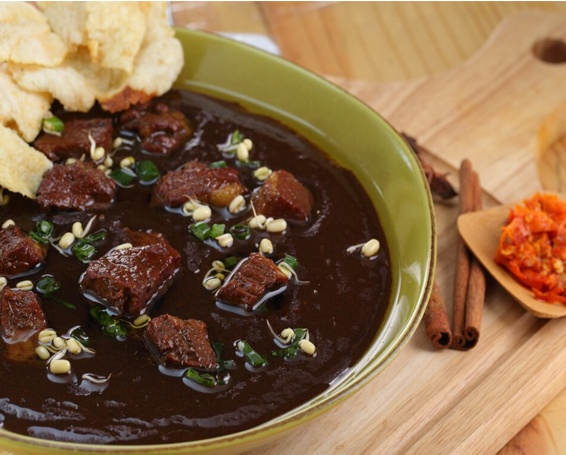rawon: (7, 63, 441, 426)
